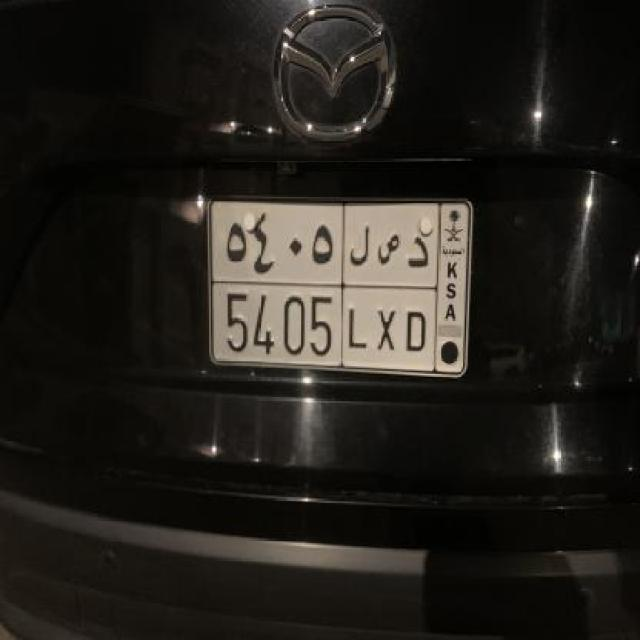license_plate: (204, 192, 476, 383)
